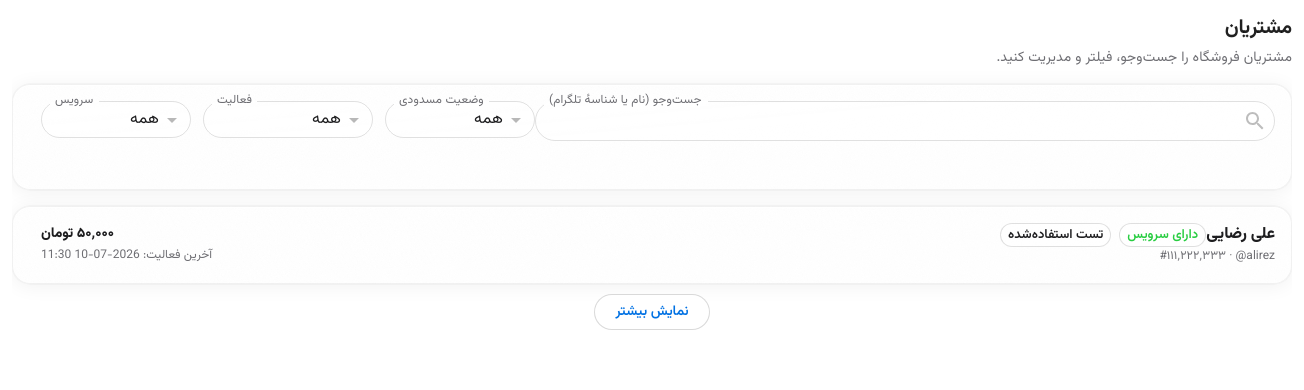
storefront customers list › loads the next keyset page with the opaque cursor (no page numbers)
Check: the text "علی رضایی" is shown, box [1206,223,1275,247]
Click the button "نمایش بیشتر". click: click(652, 312)
box: [594,294,710,330]
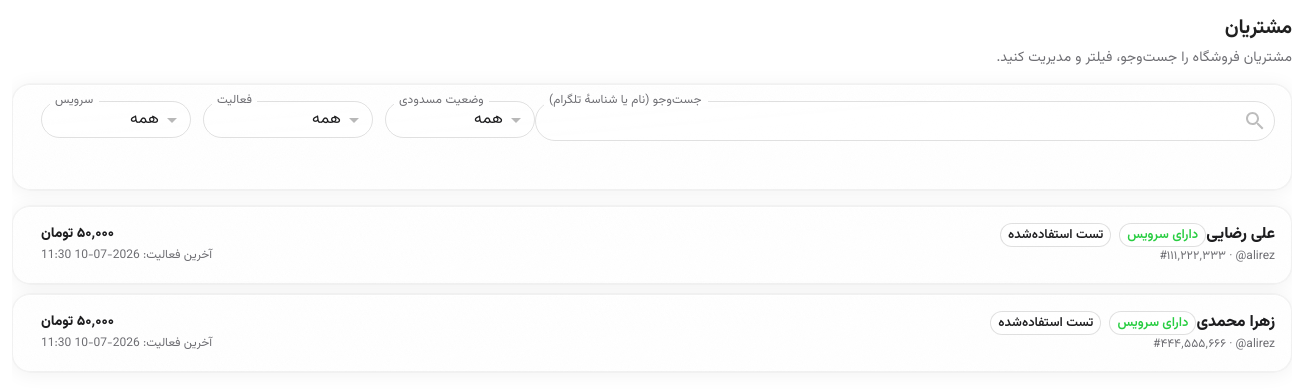
Check: the text "علی رضایی" is shown, box [1206,223,1275,247]
Check: the text "زهرا محمدی" is shown, box [1196,311,1275,335]
